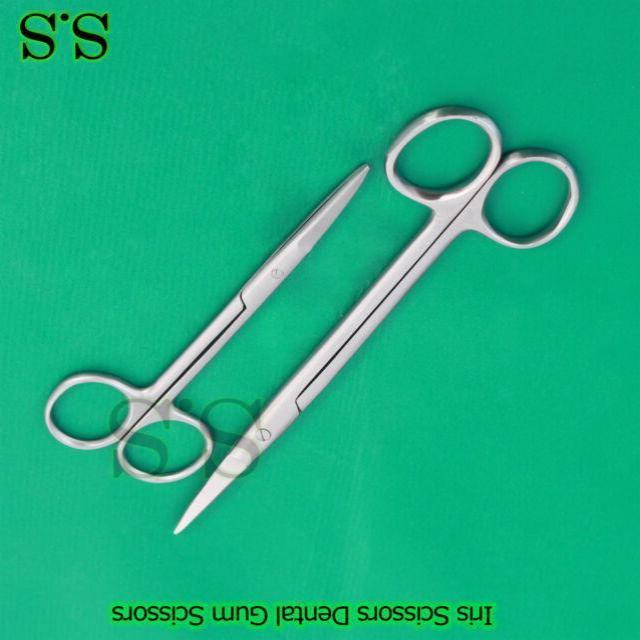Iris: (166, 95, 586, 540)
Mayo_metz: (39, 154, 372, 488)
